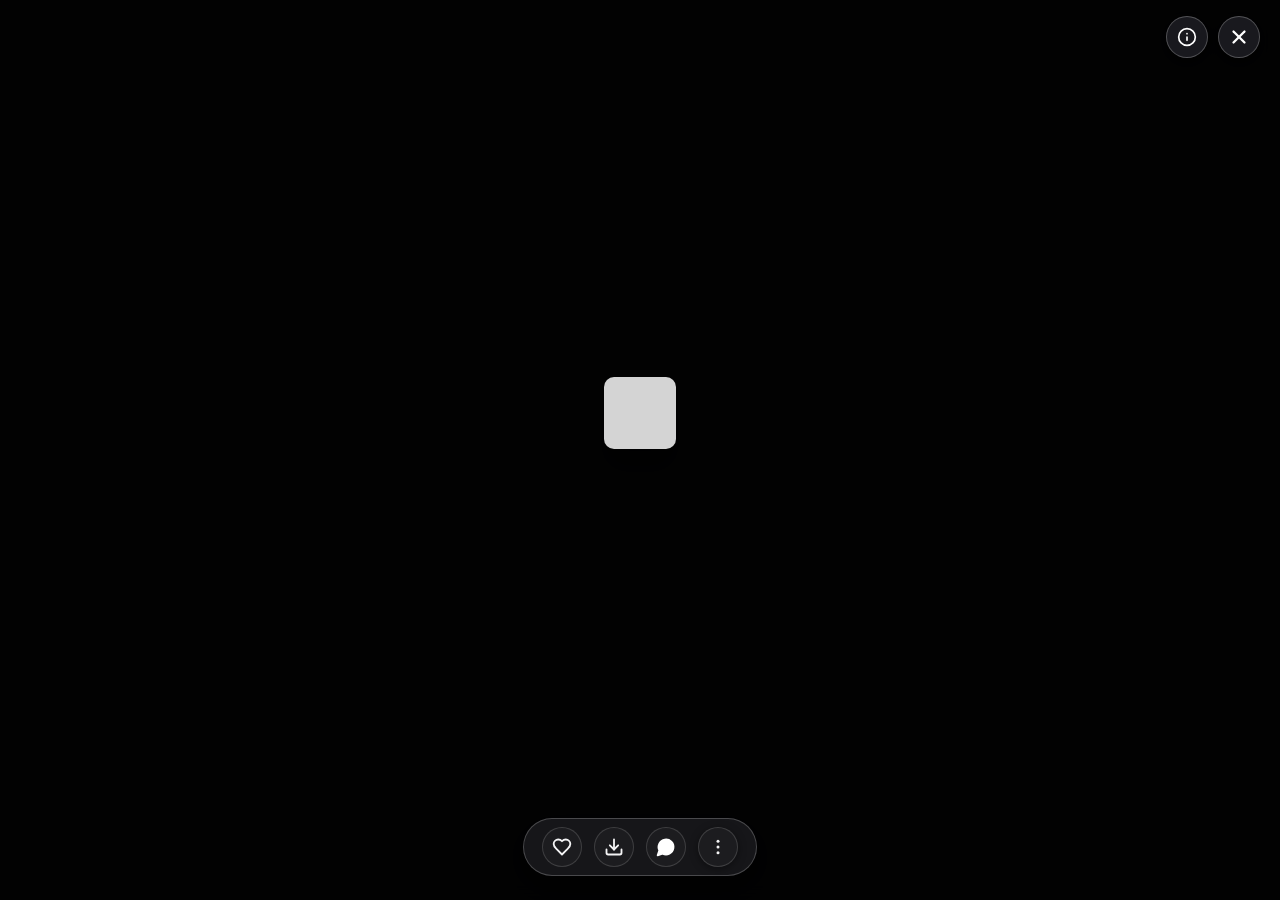
PhotoLightbox › toggles the comment panel open and closed via the comment icon, showing existing comments
Expected: the element "comments" is not shown
What coordinates should you click on to do the following:
click the button named "comments (1)"
I would click on:
 (666, 847)
Its box is [646,827,686,867].
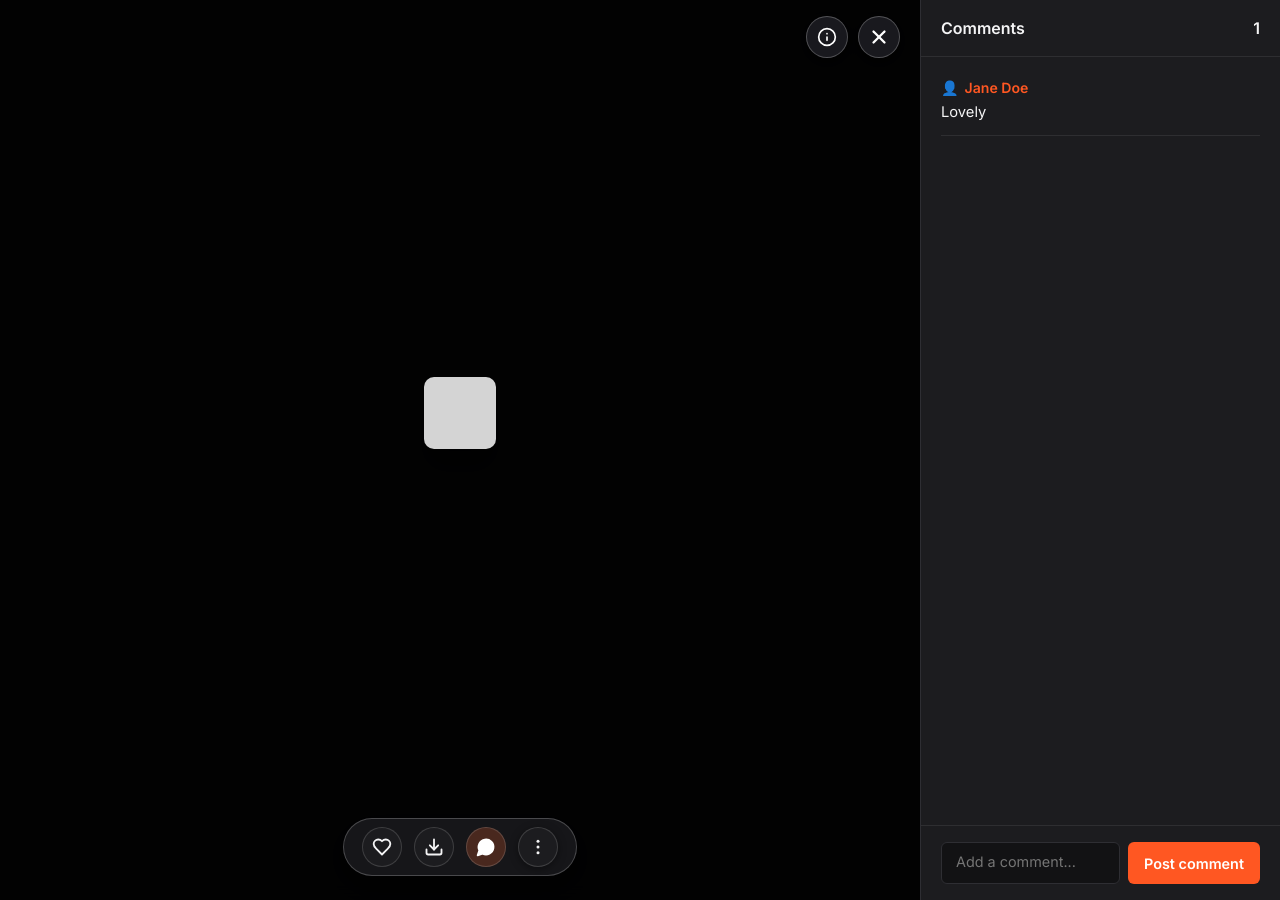
Now the element "Comments 1 👤 Jane Doe Lovely Post comment" is shown, box [920,0,1279,899]
Now the text "Lovely" is shown, box [941,103,986,121]
What coordinates should you click on to do the following:
click the button named "comments (1)"
I would click on:
 (486, 847)
Its box is [466,827,506,867].
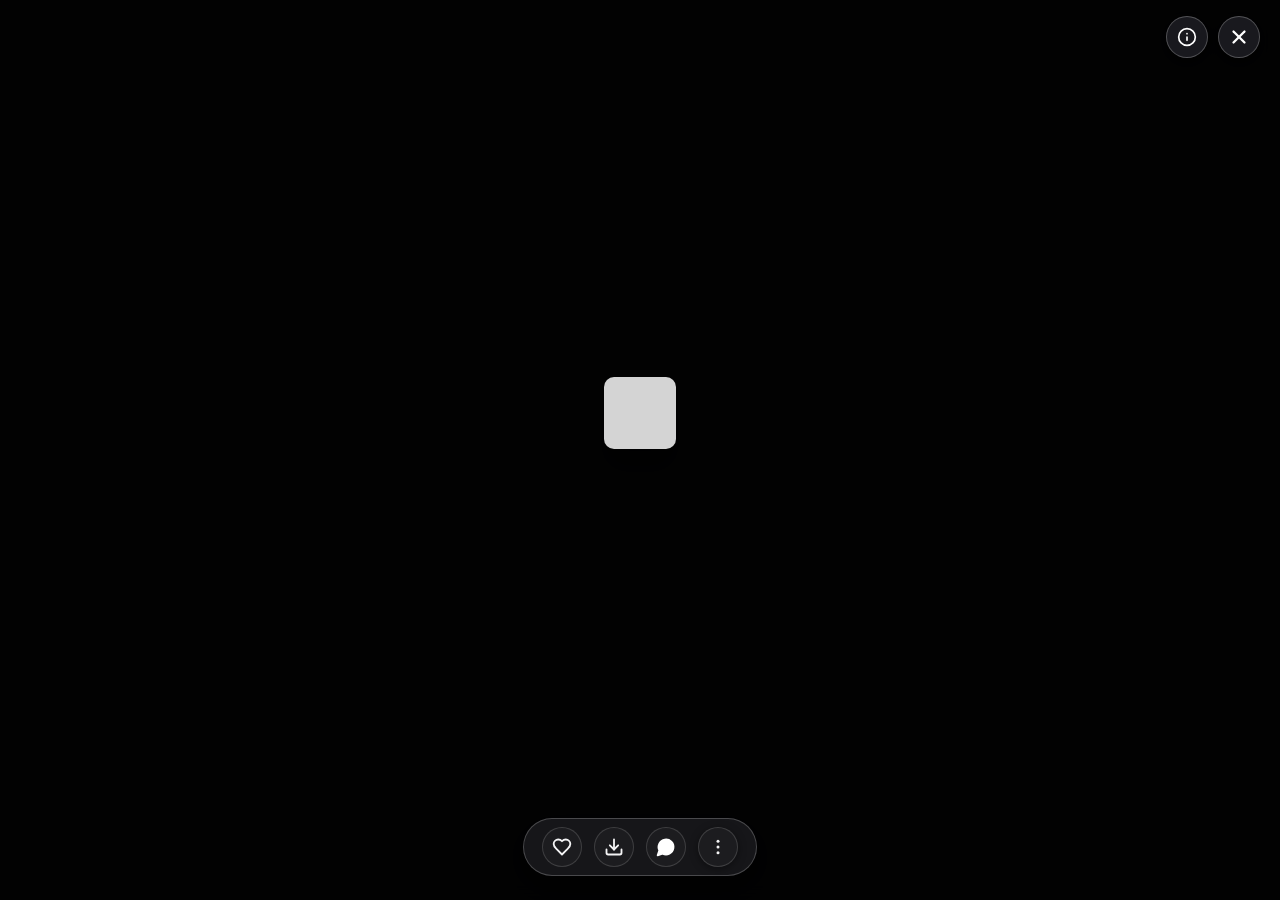
Now the text "Comments" is gone
